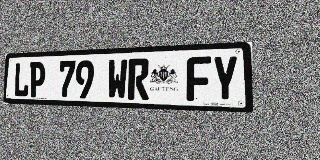7: (58, 61, 76, 98)
9: (75, 60, 94, 99)
F: (186, 56, 211, 101)
L: (13, 62, 30, 97)
P: (29, 62, 46, 97)
R: (128, 58, 149, 100)
W: (107, 59, 128, 99)
Y: (212, 55, 238, 102)
